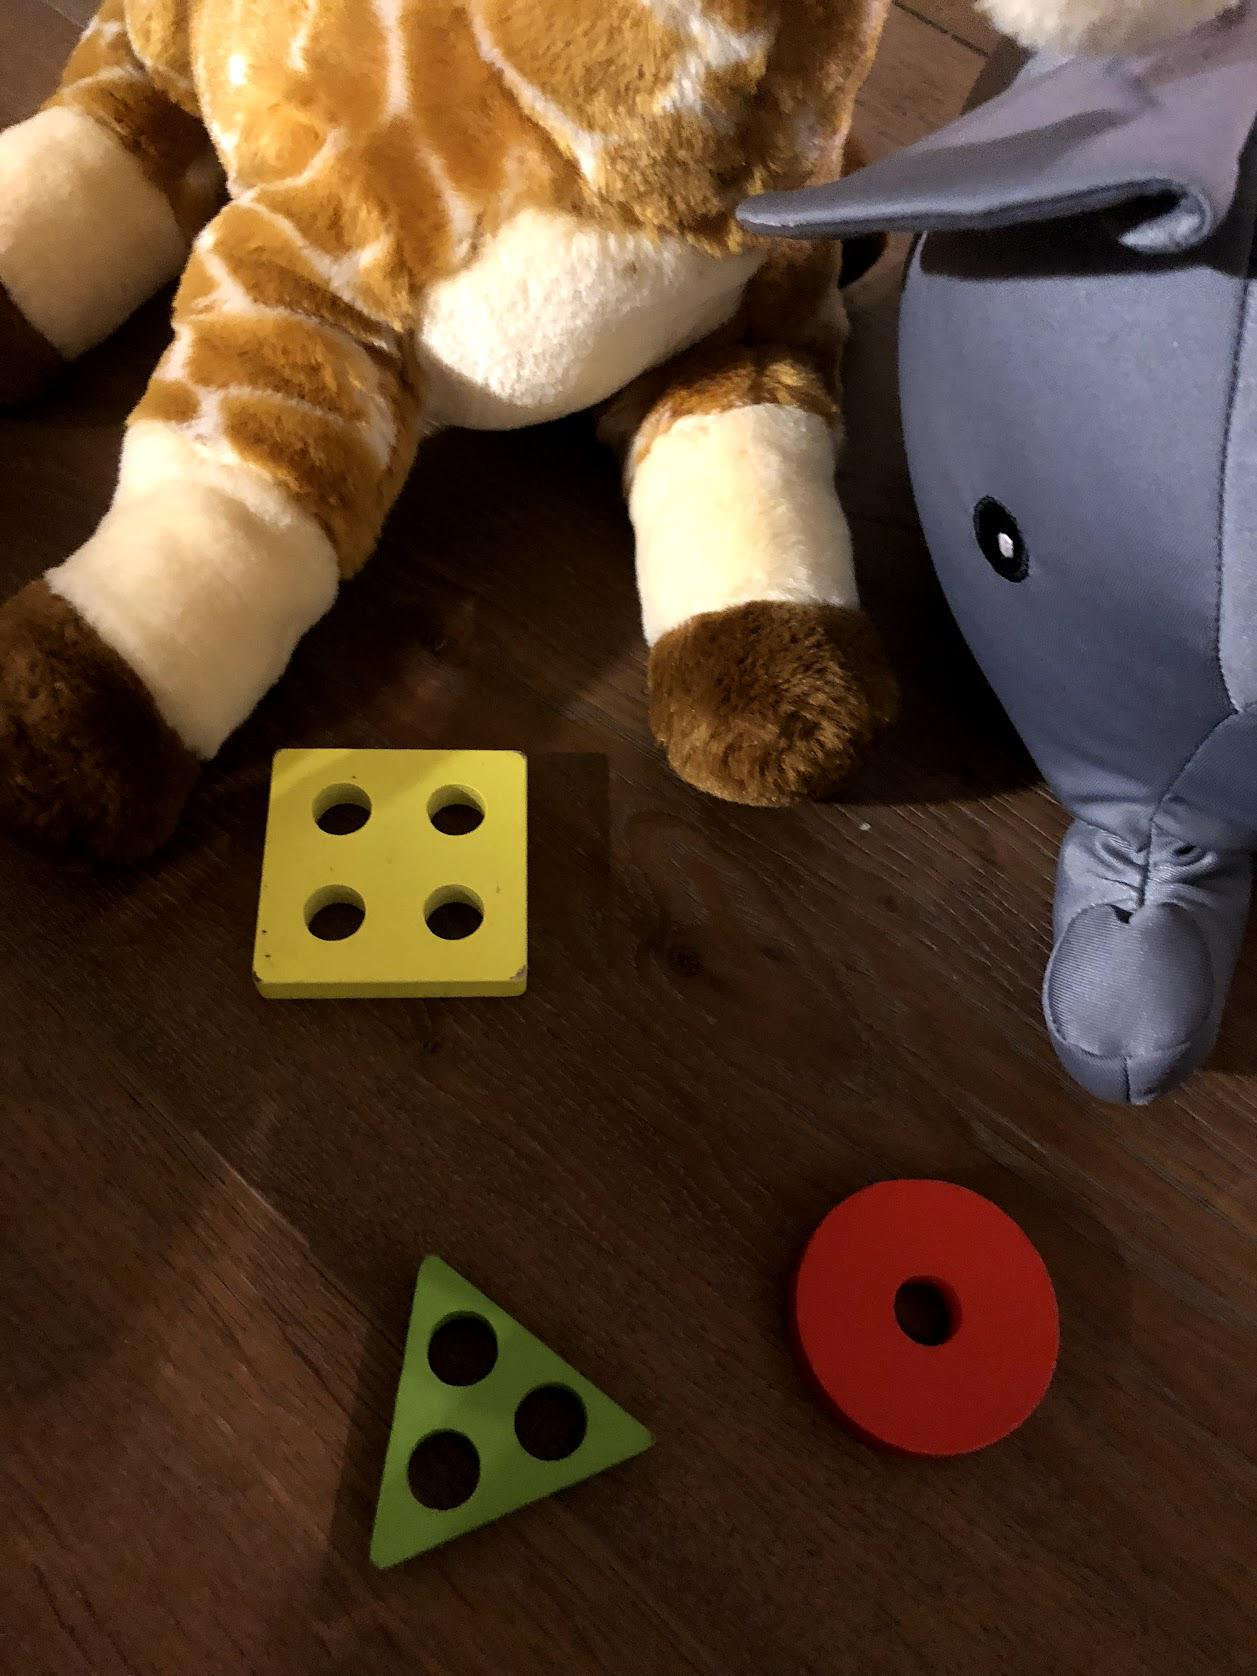Circle: (788, 1175, 1068, 1473)
Square: (243, 740, 533, 1004)
Triangle: (362, 1246, 659, 1578)
